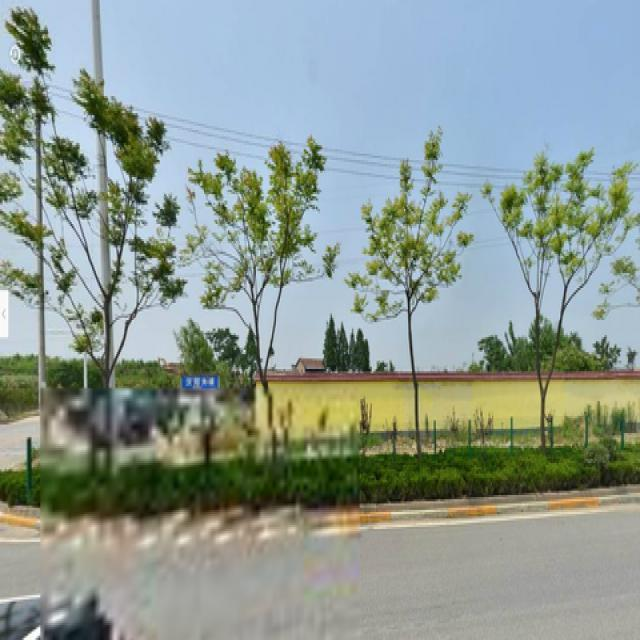koel: (486, 141, 630, 446), (352, 130, 469, 461)
